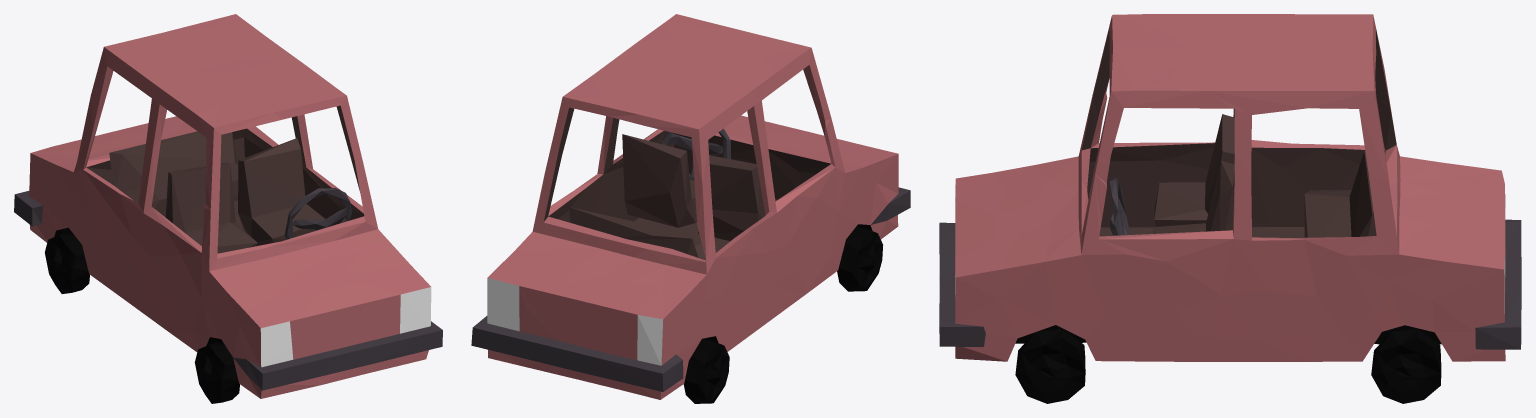
The model's file is car.fbx.
The picture shows the model from 3 angles, left to right: view 1: azimuth 30°, elevation 25°; view 2: azimuth 150°, elevation 25°; view 3: azimuth 270°, elevation 25°; orthographic projection. The views are drawn at different scales.
Parts seen in each view (by area): view 1: car, wheel_fr, wheel_br, steering; view 2: car, wheel_br, wheel_fr, steering; view 3: car, wheel_fl, wheel_bl, steering.
Part boxes in pixels (box(x1,y1,x2,y2)): car: box(14, 14, 442, 398); wheel_fr: box(194, 342, 239, 403); wheel_br: box(44, 232, 89, 293); steering: box(284, 188, 352, 239); car: box(471, 14, 910, 399); wheel_br: box(683, 339, 729, 403); wheel_fr: box(837, 226, 882, 291); steering: box(662, 128, 730, 180); car: box(939, 14, 1521, 361); wheel_fl: box(1015, 329, 1085, 403); wheel_bl: box(1371, 329, 1441, 403); steering: box(1109, 177, 1129, 235).
Size of the model in its own units: 2.38 by 2.81 by 4.98.
